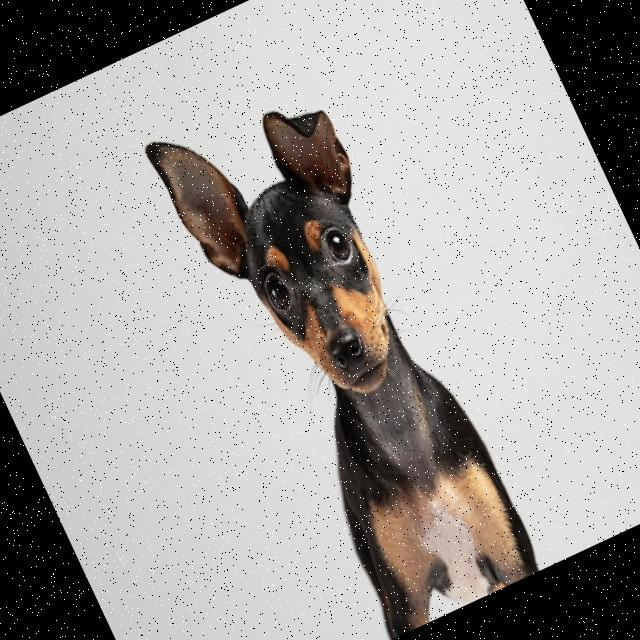Dog: (143, 66, 546, 640)
